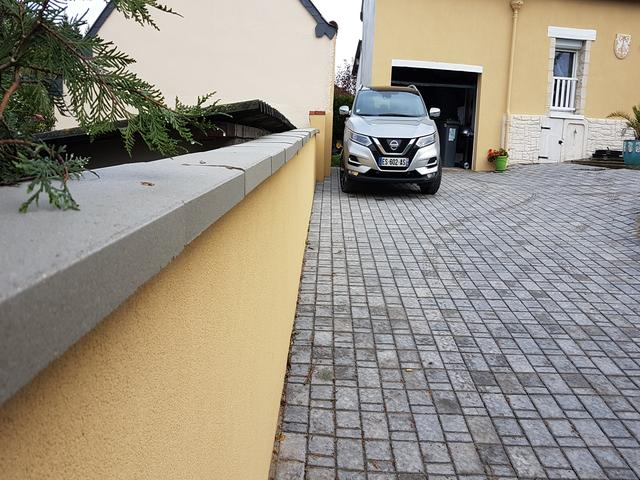Quashquai: (369, 151, 413, 172)
